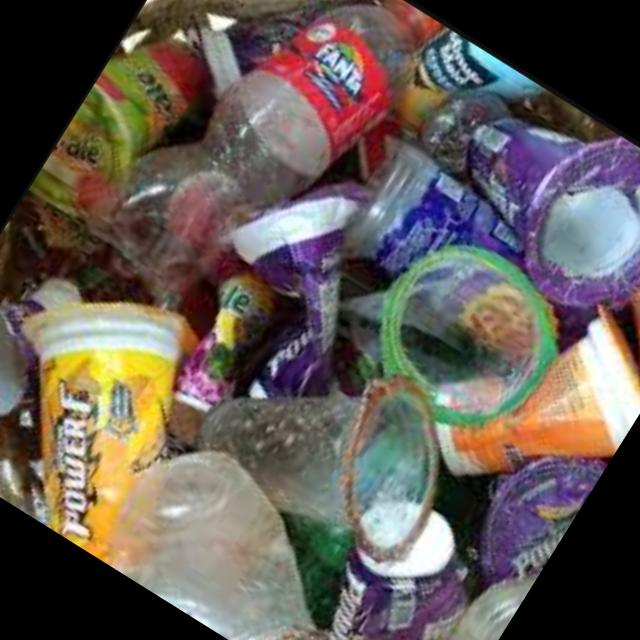GelasPlastik: (174, 297, 480, 579), (165, 134, 434, 424), (0, 242, 237, 553), (338, 202, 592, 450), (82, 418, 362, 640), (26, 7, 230, 246), (271, 471, 536, 640)
